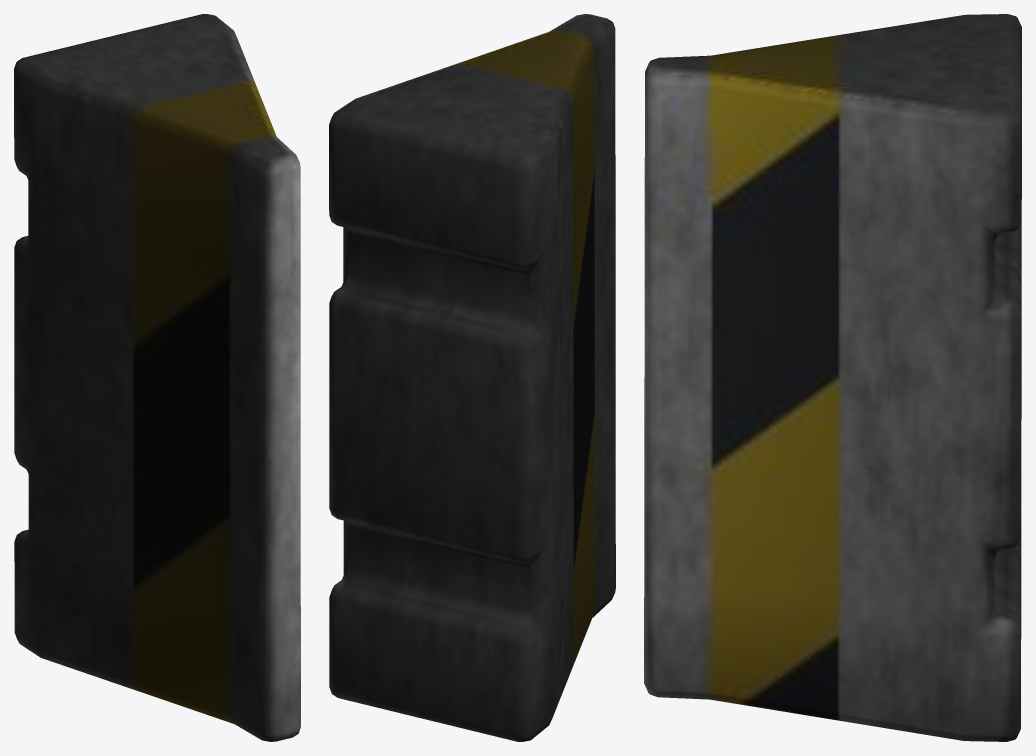
The model's file is Barrera_m1.obj.
3 renders of one model, left to right at view 1: azimuth 30°, elevation 25°; view 2: azimuth 150°, elevation 25°; view 3: azimuth 270°, elevation 25°, orthographic. The views are drawn at different scales.
Visible parts, largest first — view 1: Cube; view 2: Cube; view 3: Cube.
Boxes of the visible parts, left/top/right/bottom form: Cube: left=14, top=14, right=300, bottom=741; Cube: left=329, top=14, right=615, bottom=741; Cube: left=644, top=14, right=1021, bottom=741.
Size of the model in its own units: 1.83 by 5.07 by 2.74.
